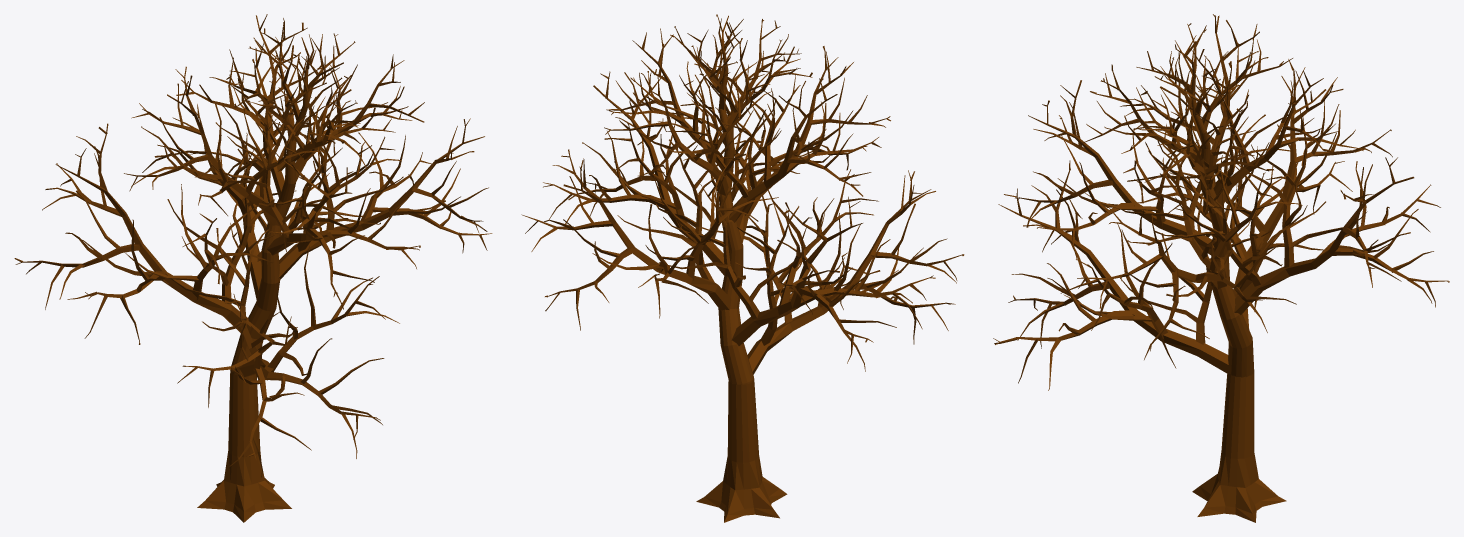
The model's file is tree.obj.
The picture shows the model from 3 angles, left to right: view 1: azimuth 30°, elevation 25°; view 2: azimuth 150°, elevation 25°; view 3: azimuth 270°, elevation 25°; orthographic projection. The views are drawn at different scales.
Visible parts, largest first — view 1: tree_scary; view 2: tree_scary; view 3: tree_scary.
Part boxes in pixels (x1,y1,x2,y2): tree_scary: (14,14,492,522); tree_scary: (521,14,964,522); tree_scary: (993,14,1449,522).
Bounding box in the file's own units: 0.153 × 0.1779 × 0.1526.
